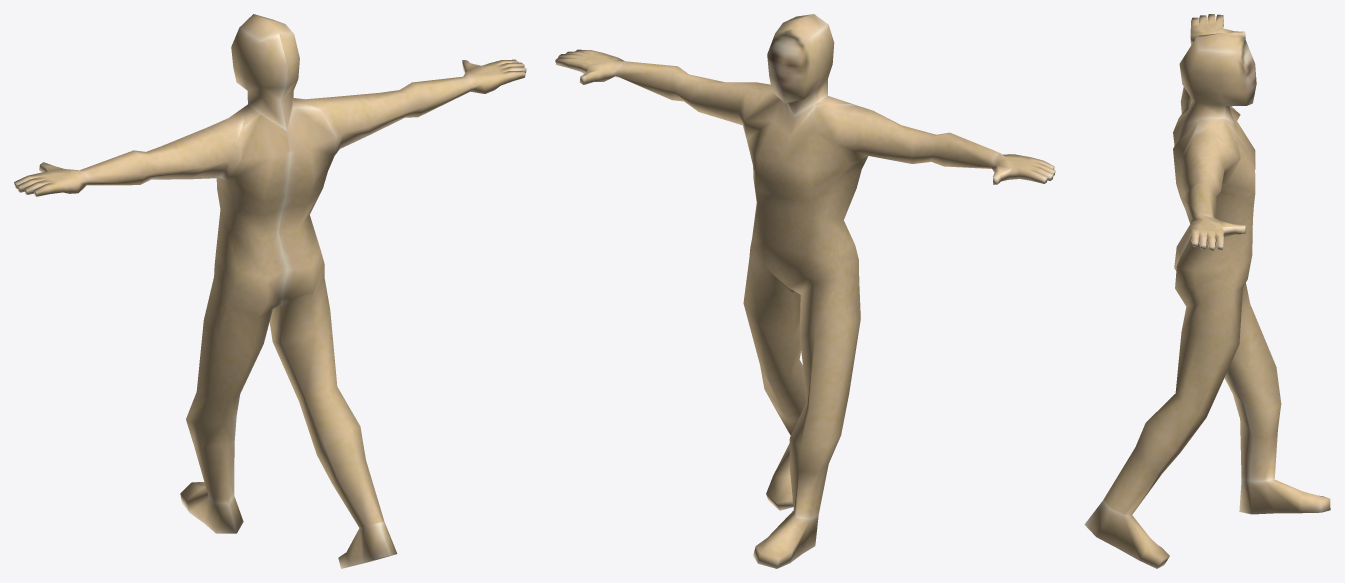
The model's file is human_000008.obj.
3 views of the same model, side by side, from view 1: azimuth 30°, elevation 25°; view 2: azimuth 150°, elevation 25°; view 3: azimuth 270°, elevation 25° (orthographic). The views are drawn at different scales.
Bounding box in the file's own units: 1.87 × 1.91 × 0.8385.
